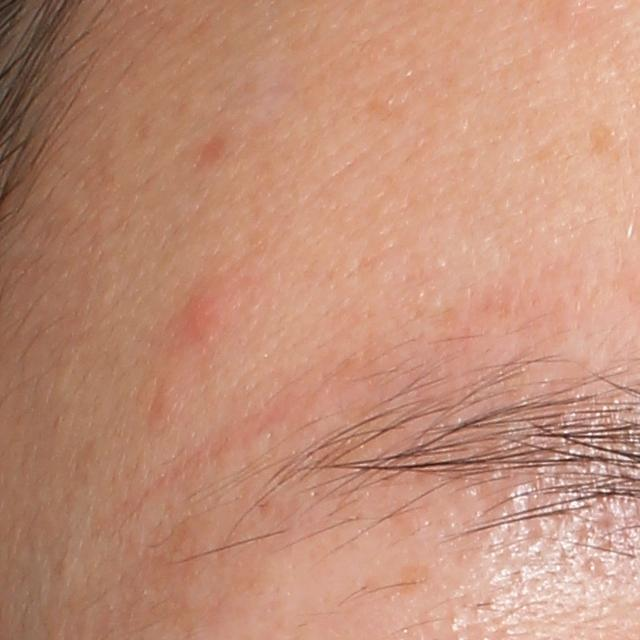melasma: (584, 118, 619, 165)
papule: (163, 263, 254, 351)
